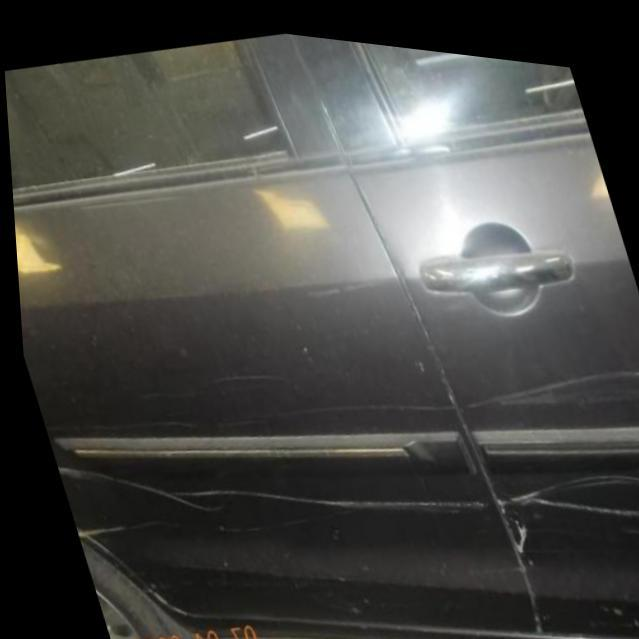scratch: (46, 452, 639, 549), (69, 352, 639, 436), (67, 515, 180, 544), (129, 574, 181, 621)
